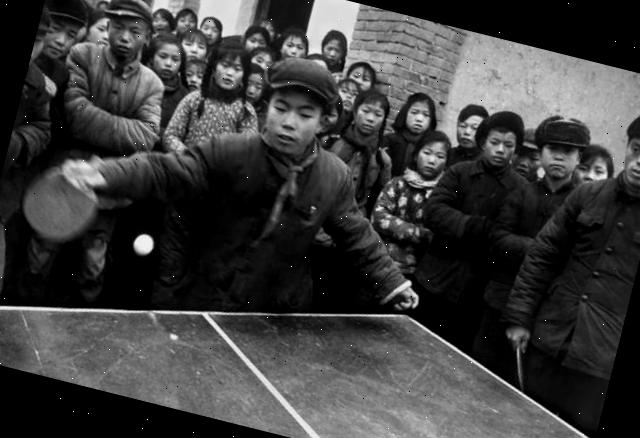ball: (126, 227, 158, 260)
